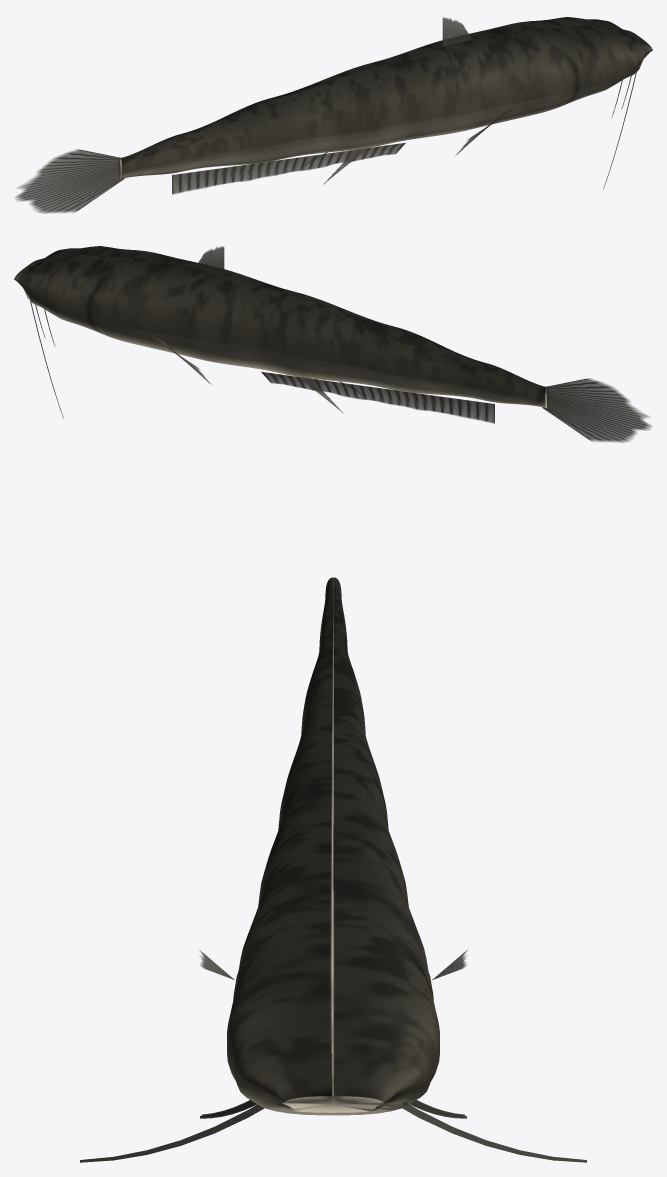
The model's file is laqqa.glb.
3 views of the same model, one above another, from view 1: azimuth 30°, elevation 25°; view 2: azimuth 150°, elevation 25°; view 3: azimuth 270°, elevation 25° (orthographic). The views are drawn at different scales.
Visible parts, largest first — view 1: laqqa; view 2: laqqa; view 3: laqqa.
Part boxes in pixels (box(x1,y1,x2,y2)): laqqa: box(15, 17, 652, 213); laqqa: box(14, 246, 651, 442); laqqa: box(80, 577, 586, 1162).
Size of the model in its own units: 1.04 by 0.2425 by 0.3631.
Materials: 1 (1 with a texture image).
